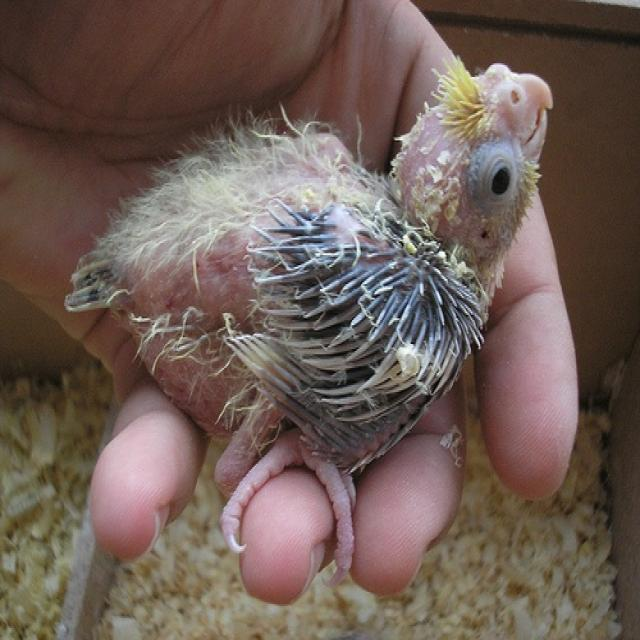bird: (62, 60, 556, 589)
